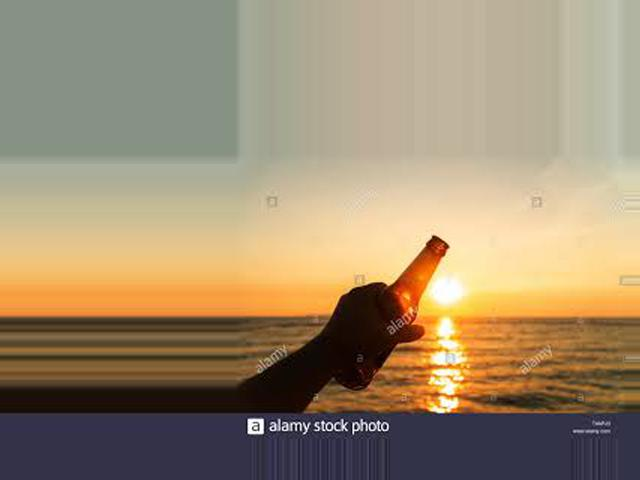beer: (330, 233, 448, 390)
